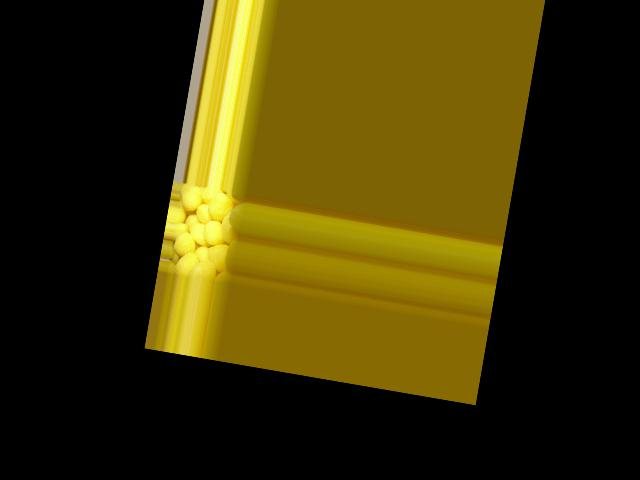lemon: (170, 228, 197, 263)
